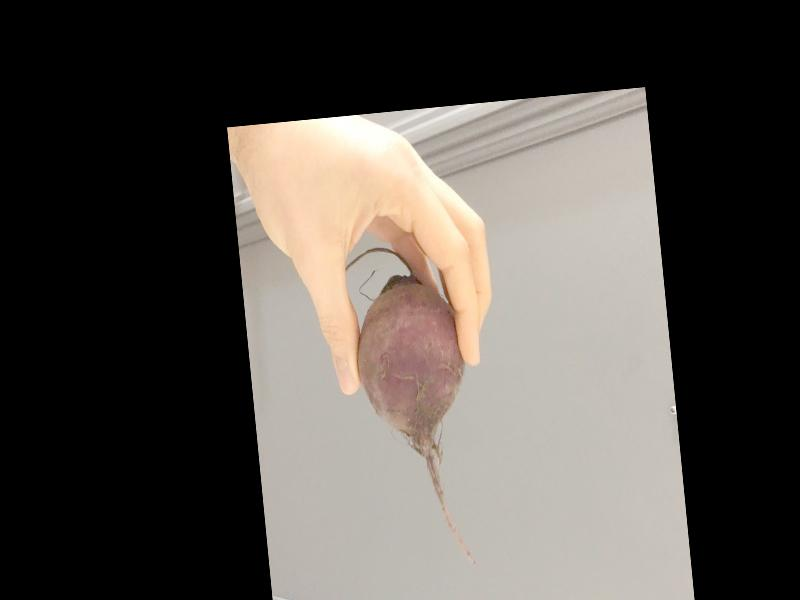Beet: (344, 242, 481, 580)
